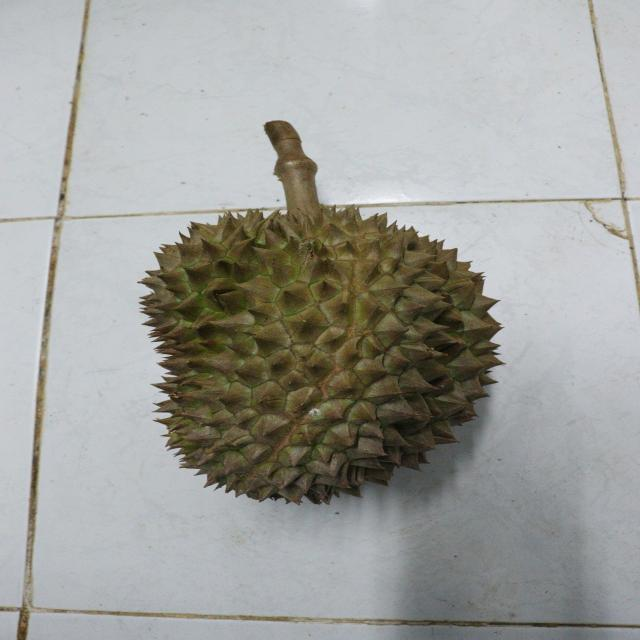mature: (130, 201, 512, 503)
